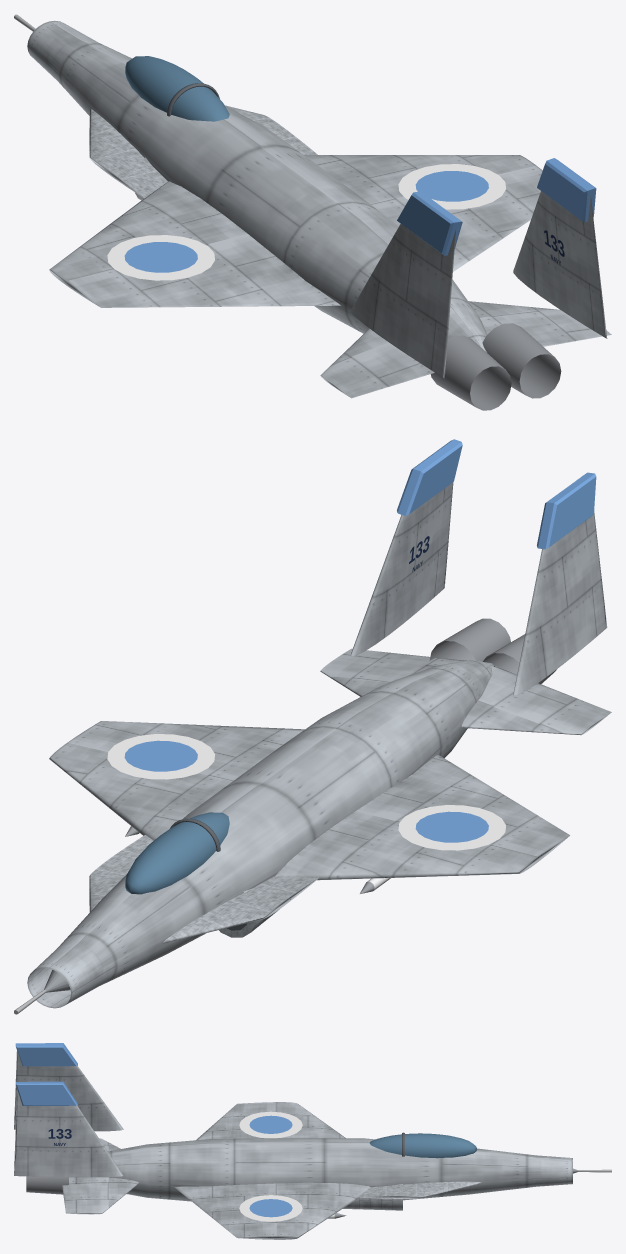
File: mig29.glb
The picture shows the model from 3 angles, top to bottom: view 1: azimuth 30°, elevation 25°; view 2: azimuth 150°, elevation 25°; view 3: azimuth 270°, elevation 25°; orthographic projection. The views are drawn at different scales.
Parts seen in each view (by area): view 1: detail (×6), part (×6); view 2: detail (×6), part (×6); view 3: detail (×5), part (×6).
Part boxes in pixels (box(x1,y1,x2,y2)): detail (×6): box(27, 20, 611, 398); part (×6): box(107, 56, 596, 410); detail (×6): box(27, 482, 611, 1008); part (×6): box(107, 439, 596, 894); detail (×5): box(14, 1051, 572, 1239); part (×6): box(15, 1043, 477, 1221).
Bounding box in the file's own units: 10.4 × 4.93 × 19.57.
15 materials, 3 textured.
